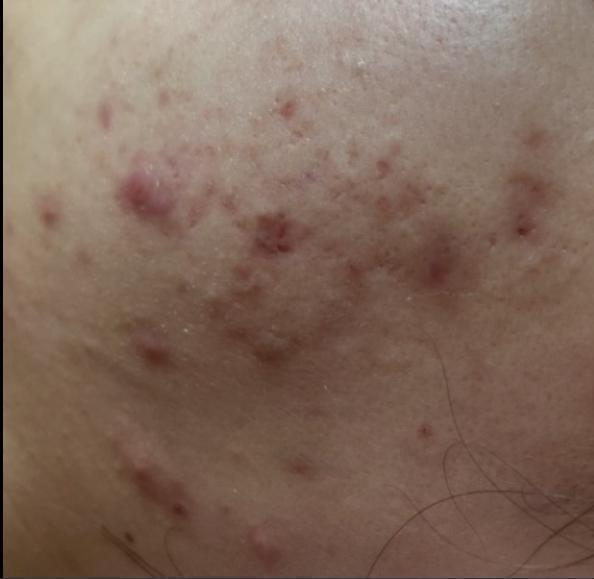cystic: (115, 140, 187, 239), (115, 426, 179, 522), (251, 325, 303, 379), (241, 525, 285, 576)
papular: (121, 320, 190, 375)
whitehead: (318, 39, 407, 88)
